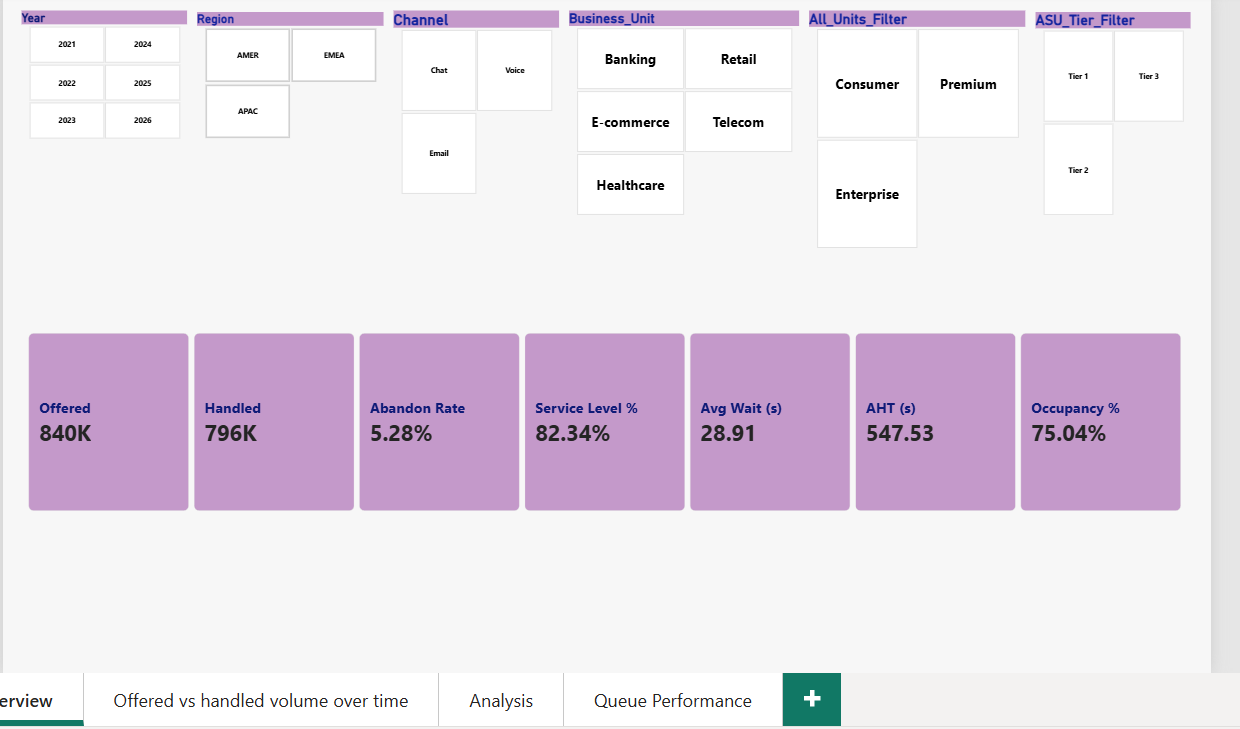

The page's visual inventory and layout, read from the dashboard file:
{"tool":"powerbi","page":{"name":"Overview","canvas":[1920,1080],"ordinal":0},"visuals":[{"type":"slicer","fields":{"Values":["Calendar.Year"]},"box":[21.5,26.2,279.2,205.2],"z":0},{"type":"slicer","fields":{"Values":["Data.Region Hierarchy.Region"]},"box":[300.6,28.6,312.6,202.8],"z":1},{"type":"slicer","fields":{"Values":["Data.Channel"]},"box":[613.2,26.2,279.2,293.5],"z":2},{"type":"slicer","fields":{"Values":["Data.Business_Unit"]},"box":[892.3,26.2,381.7,326.9],"z":3},{"type":"slicer","fields":{"Values":["Data.All_Units_Filter"]},"box":[1274.1,26.2,360.3,379.4],"z":4},{"type":"slicer","fields":{"Values":["Data.ASU_Tier_Filter"]},"box":[1634.4,28.6,262.5,324.5],"z":5},{"type":"cardVisual","fields":{"Data":["Data.Offered","Data.Handled","Data.Abandon Rate","Data.Service Level %","Data.Avg Wait (s)","Data.AHT (s)","Data.Occupancy %"]},"box":[40.6,539.2,1837.2,283],"z":6}]}

Visuals, with their boxes on the page's 1920x1080 design canvas (x1, y1, x2, y2). These are canvas units, not pixel positions in the 1240x729 screenshot, which may show the page scaled, cropped or inside an application window:
slicer - Calendar.Year: select_region(22, 26, 301, 231)
slicer - Data.Region Hierarchy.Region: select_region(301, 29, 613, 231)
slicer - Data.Channel: select_region(613, 26, 892, 320)
slicer - Data.Business_Unit: select_region(892, 26, 1274, 353)
slicer - Data.All_Units_Filter: select_region(1274, 26, 1634, 406)
slicer - Data.ASU_Tier_Filter: select_region(1634, 29, 1897, 353)
cardVisual - Data.Offered x Data.Handled: select_region(41, 539, 1878, 822)
